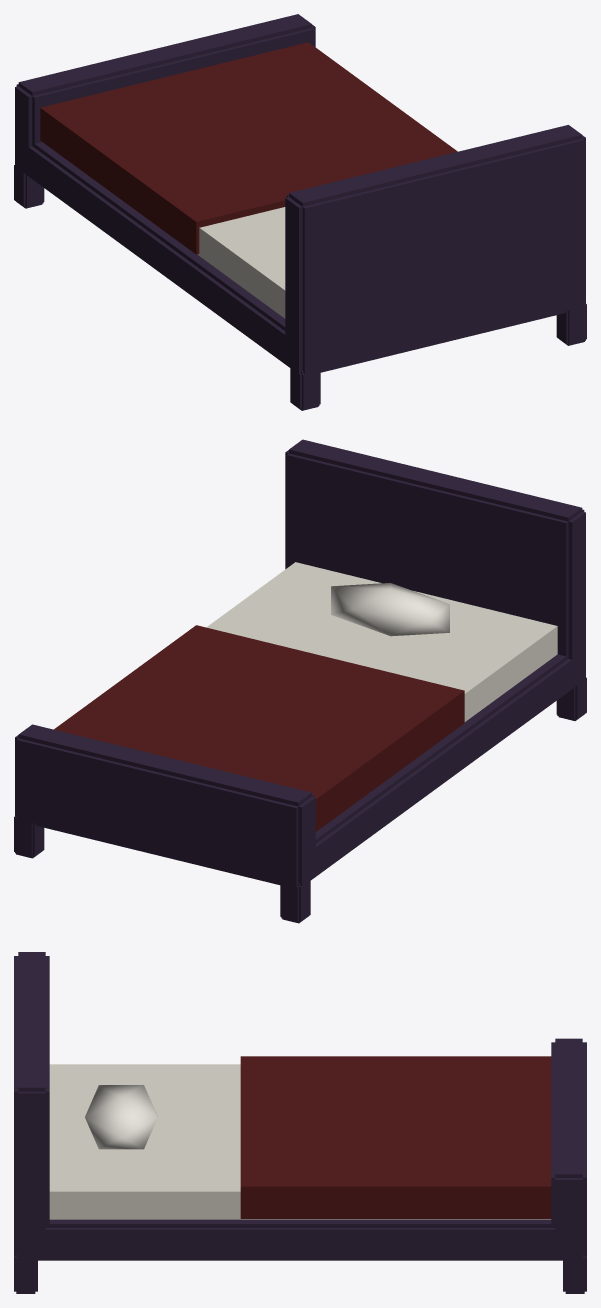
Rendered from obsidian_bed_v0.glb.
3 renders of one model, top to bottom at view 1: azimuth 30°, elevation 25°; view 2: azimuth 150°, elevation 25°; view 3: azimuth 270°, elevation 25°, orthographic.
Parts seen in each view (by area): view 1: obsidian_bed_v0; view 2: obsidian_bed_v0; view 3: obsidian_bed_v0.
Part boxes in pixels (x1=…): obsidian_bed_v0: x1=14, y1=14, x2=586, y2=410; obsidian_bed_v0: x1=14, y1=439, x2=586, y2=923; obsidian_bed_v0: x1=14, y1=952, x2=586, y2=1293.
Size of the model in its own units: 1.38 by 0.95 by 2.4.
